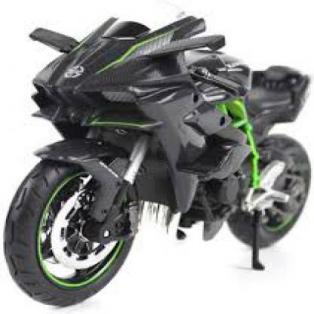Motocicleta: (8, 8, 310, 304)
